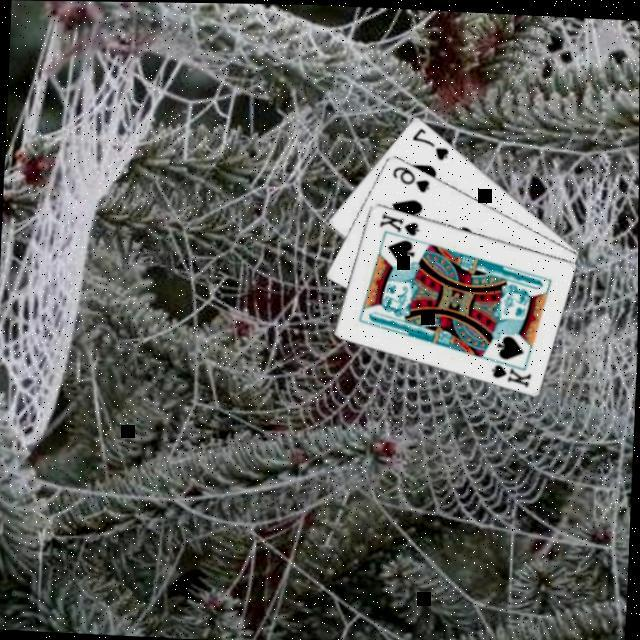6S: (390, 160, 434, 193)
7S: (410, 121, 453, 161)
KS: (488, 352, 536, 388), (378, 206, 424, 237)
